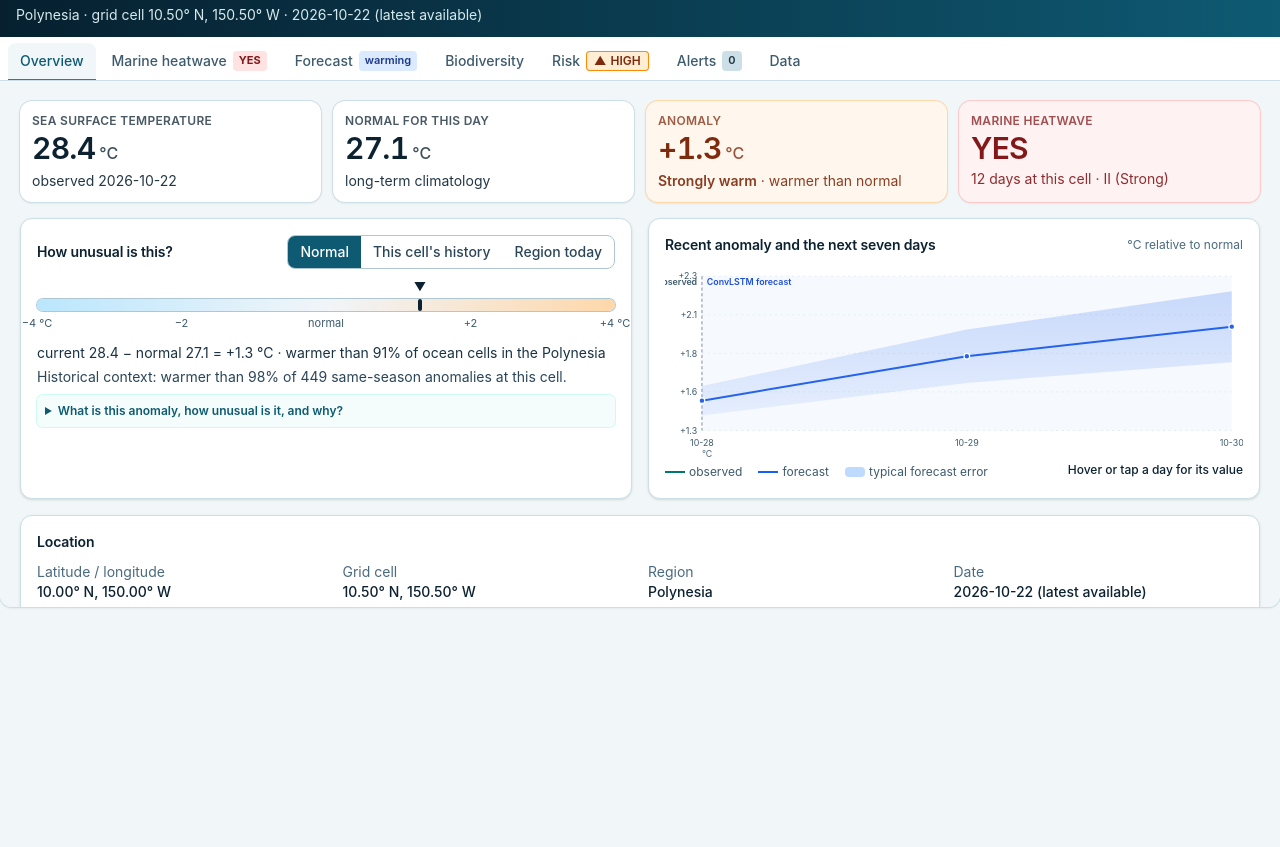
Test case: Explainable AI panel › states the limits: not causal attribution, and persistence performs as well or better when the evaluation says so
The width and height of the screenshot is (1280, 847).
Click the tab "Forecast warming" at {"x": 356, "y": 62}, box [283,43,429,81]
(page scrolled)
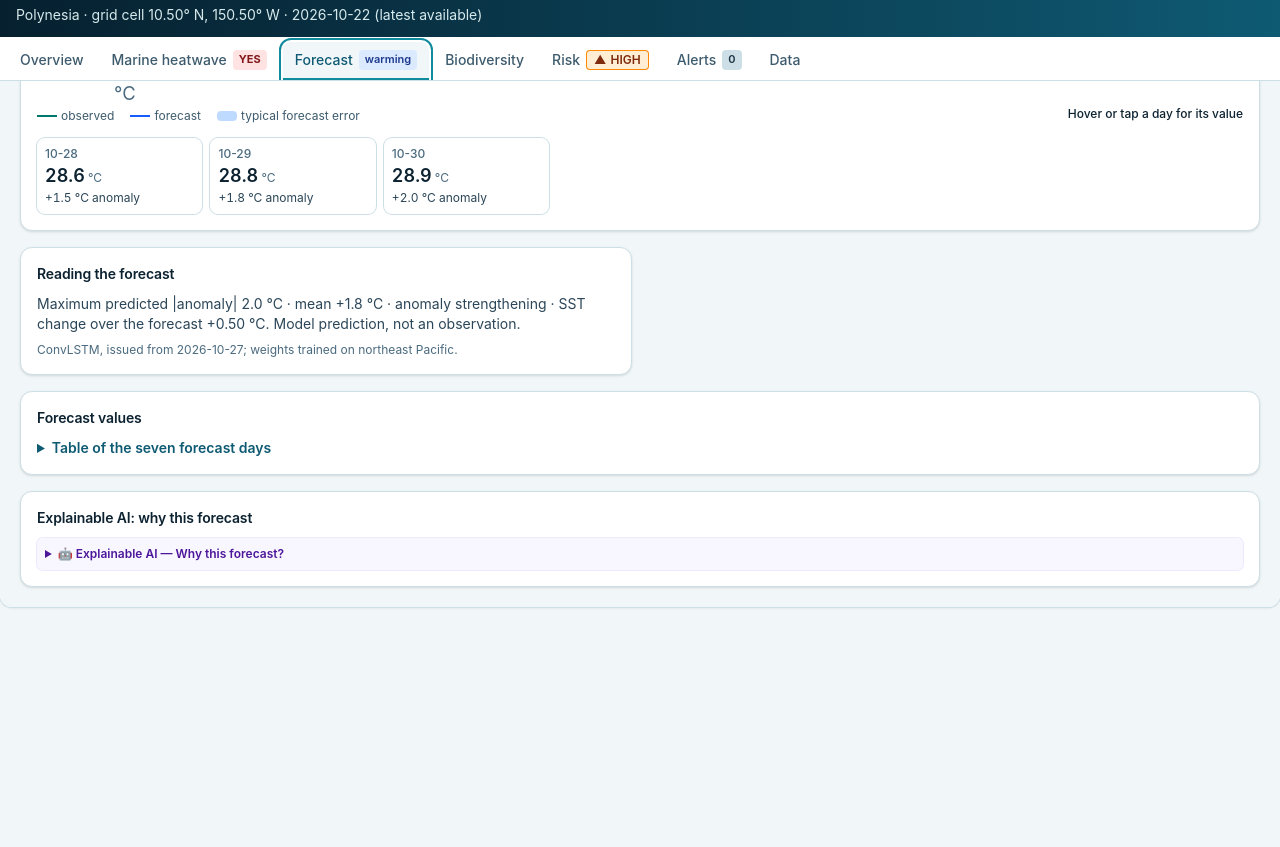
Click the heading "🤖 Explainable AI — Why this forecast?" at {"x": 171, "y": 554}, box [58,546,284,561]
(page scrolled)
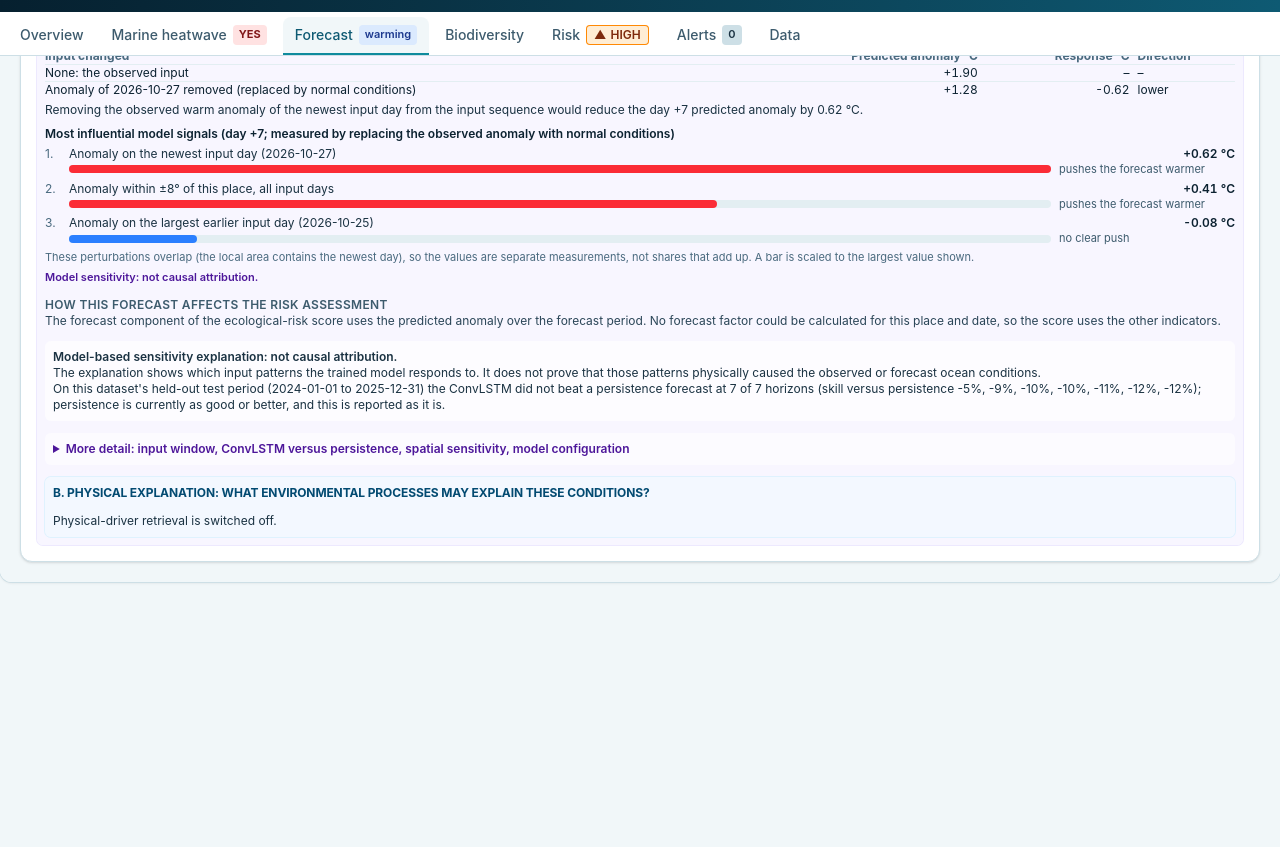
Expected: the element with test id "xai-limits" shows "Model-based sensitivity explanation: not causal attribution.", [53,349,397,364]
Expected: the element with test id "xai-limits" shows "It does not prove that those patterns physically caused the observed or forecast ocean conditions.", [53,365,1041,380]
